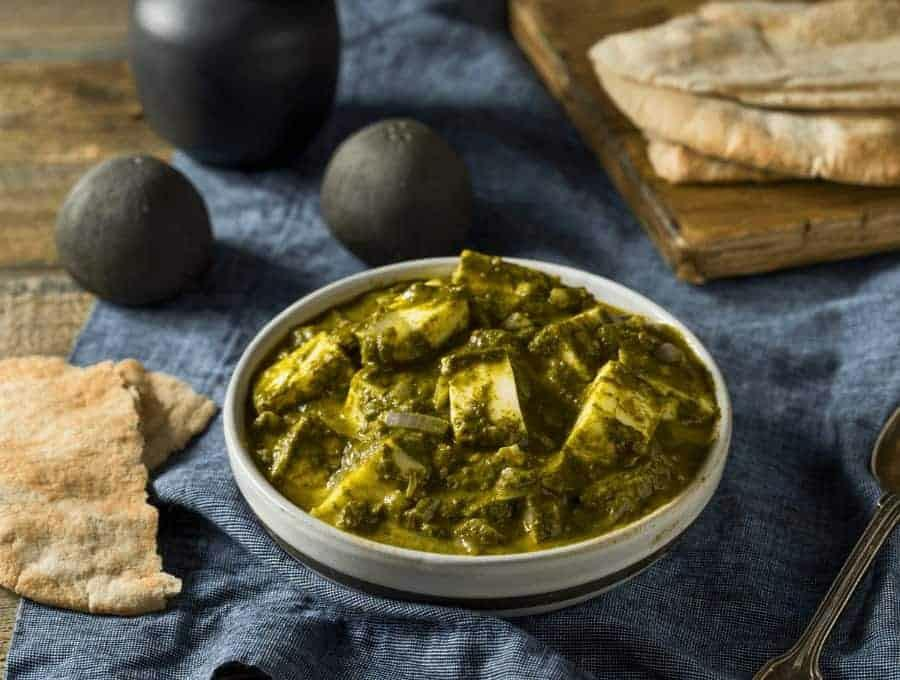PalakPaneer: (242, 249, 724, 560)
